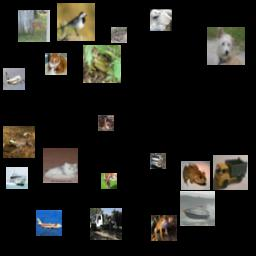airplane: (36, 210, 62, 236), (3, 68, 25, 90)
automobile: (150, 153, 166, 169)
bird: (57, 3, 95, 41)
cat: (43, 148, 78, 183), (45, 53, 67, 75), (98, 115, 114, 131)
deer: (18, 10, 50, 42), (101, 173, 117, 189)
dog: (207, 27, 245, 65)
frog: (83, 45, 121, 83), (3, 126, 35, 158), (181, 161, 210, 190), (151, 215, 177, 241), (111, 27, 127, 43)
ship: (180, 191, 215, 226), (6, 167, 28, 189)
truck: (213, 155, 248, 190), (90, 208, 122, 240)
